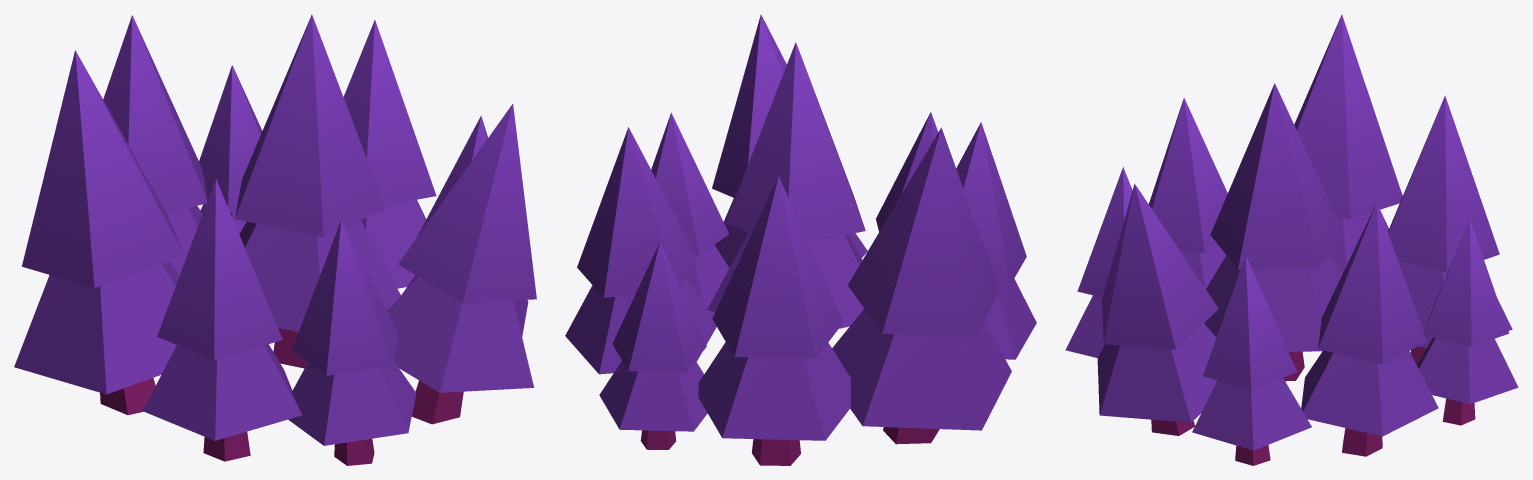
Rendered from alien_tree_group_1.obj.
The picture shows the model from 3 angles, left to right: view 1: azimuth 30°, elevation 25°; view 2: azimuth 150°, elevation 25°; view 3: azimuth 270°, elevation 25°; orthographic projection. The views are drawn at different scales.
Parts seen in each view (by area): view 1: trees_A_small; view 2: trees_A_small; view 3: trees_A_small.
Part boxes in pixels (box(x1,y1,x2,y2)): trees_A_small: box(14, 14, 536, 465); trees_A_small: box(565, 14, 1036, 465); trees_A_small: box(1065, 14, 1518, 465).
Size of the model in its own units: 1.43 by 1.11 by 1.44.
1 material, 1 textured.
